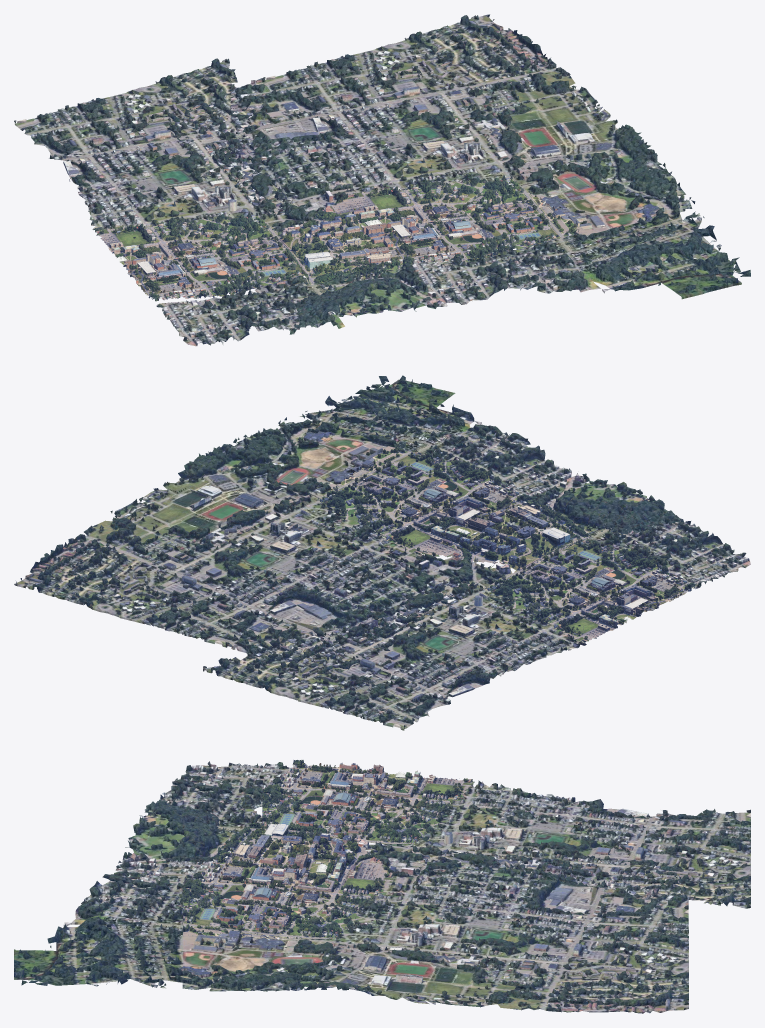
Rendered from rpiPairWOuterCompressed.glb.
3 renders of one model, top to bottom at view 1: azimuth 30°, elevation 25°; view 2: azimuth 150°, elevation 25°; view 3: azimuth 270°, elevation 25°, orthographic. The views are drawn at different scales.
Visible parts, largest first — view 1: Google 3D Tiles.011; view 2: Google 3D Tiles.011; view 3: Google 3D Tiles.011.
Part boxes in pixels (x1,y1,x2,y2): Google 3D Tiles.011: [14, 14, 750, 346]; Google 3D Tiles.011: [14, 375, 750, 730]; Google 3D Tiles.011: [14, 760, 750, 1013].
Size of the model in its own units: 579 by 41.9 by 667.
290 materials, 290 textured.
